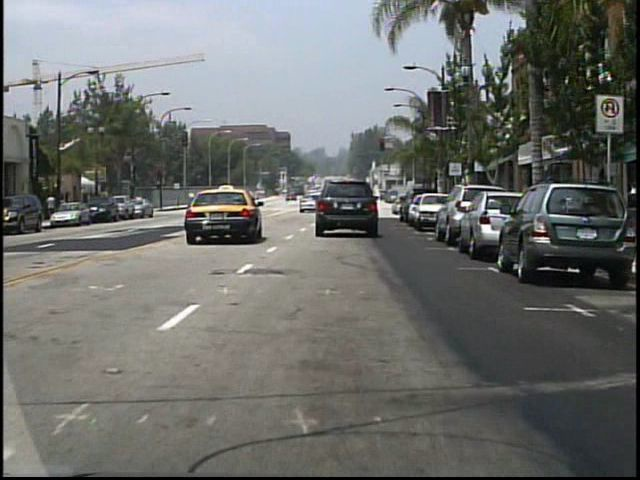person: (325, 191, 338, 213), (249, 190, 261, 211), (48, 193, 59, 215)
